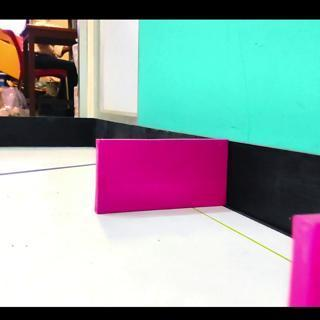xparking: (98, 142, 222, 208), (294, 218, 310, 304)
